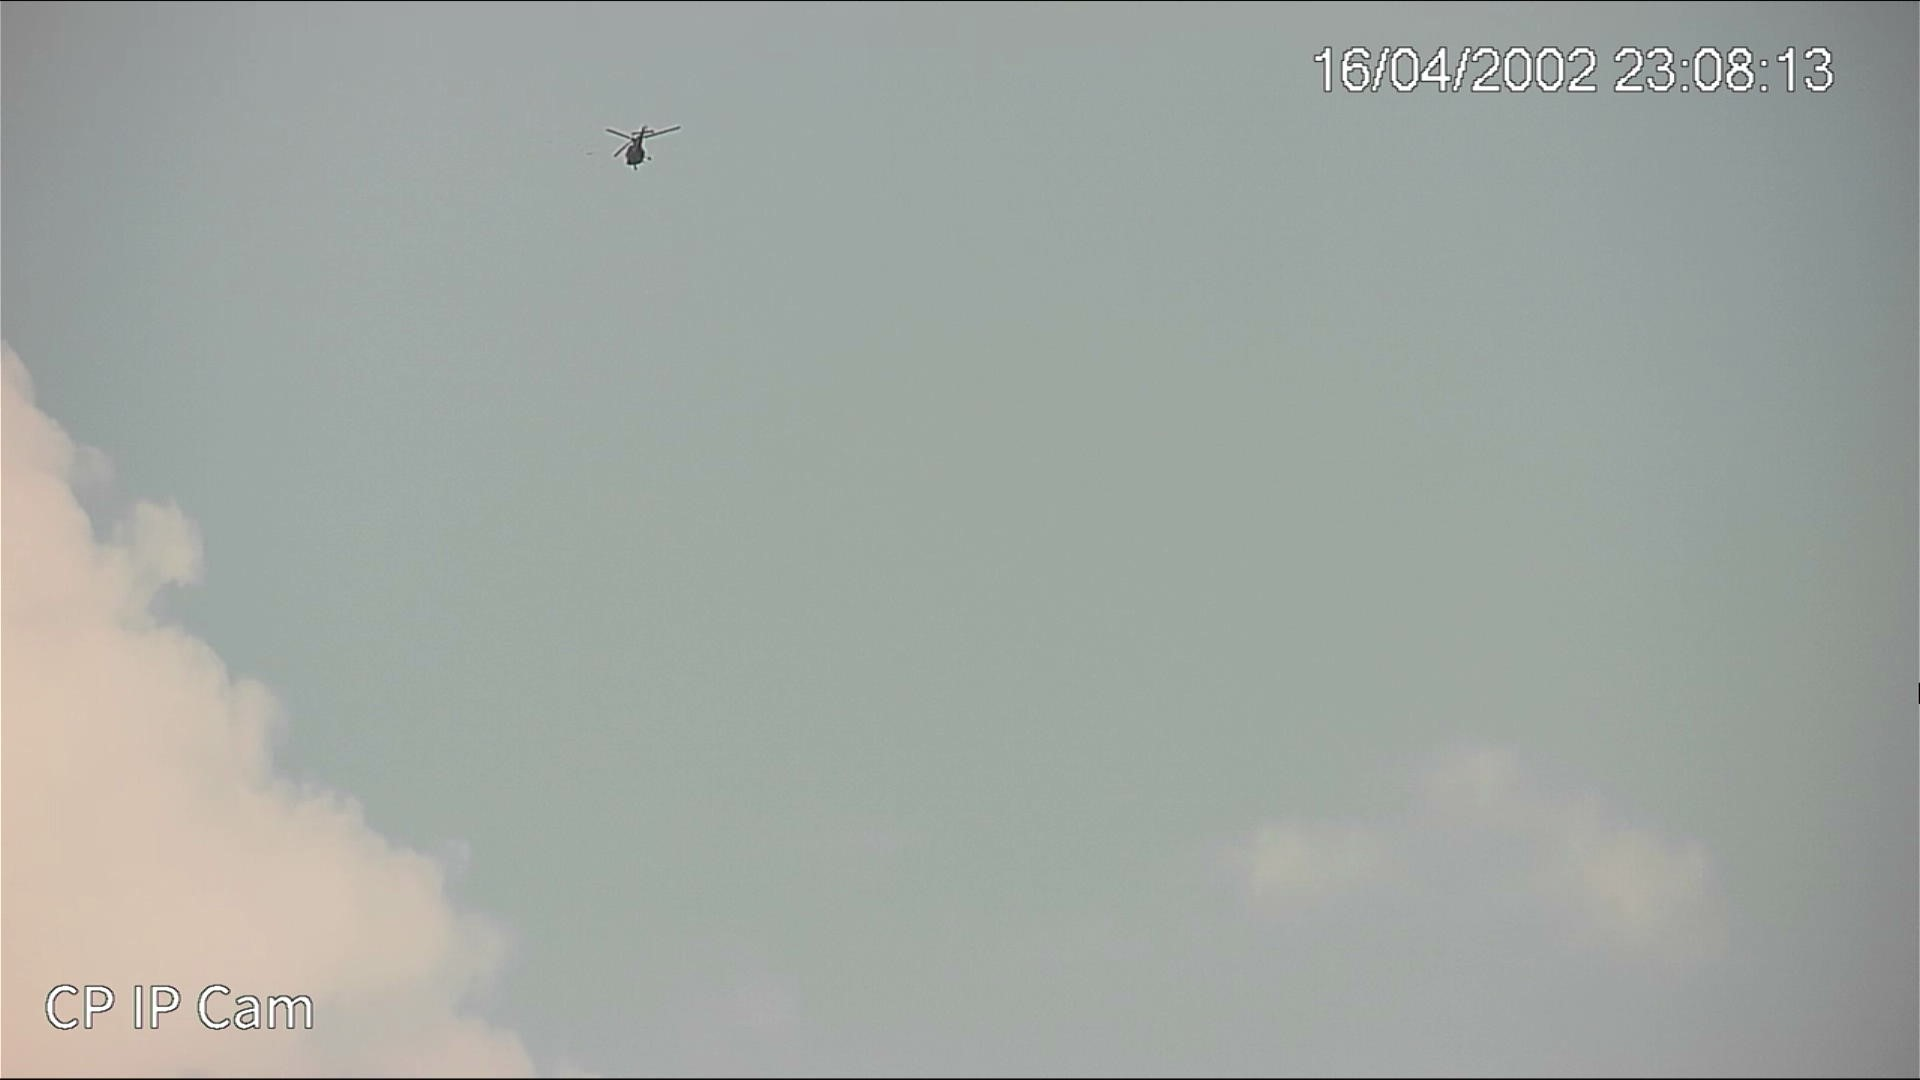SU_30: (604, 123, 682, 170)
